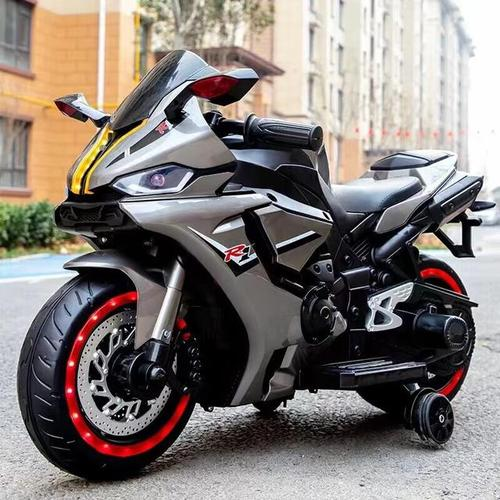摩托车: (13, 54, 493, 458)
